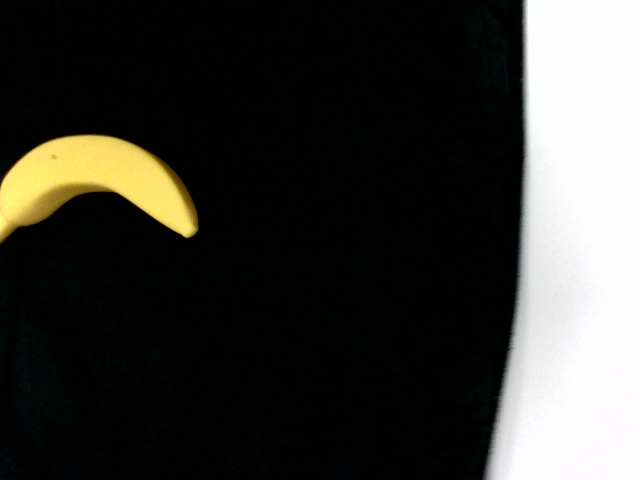banana: (0, 132, 197, 241)
